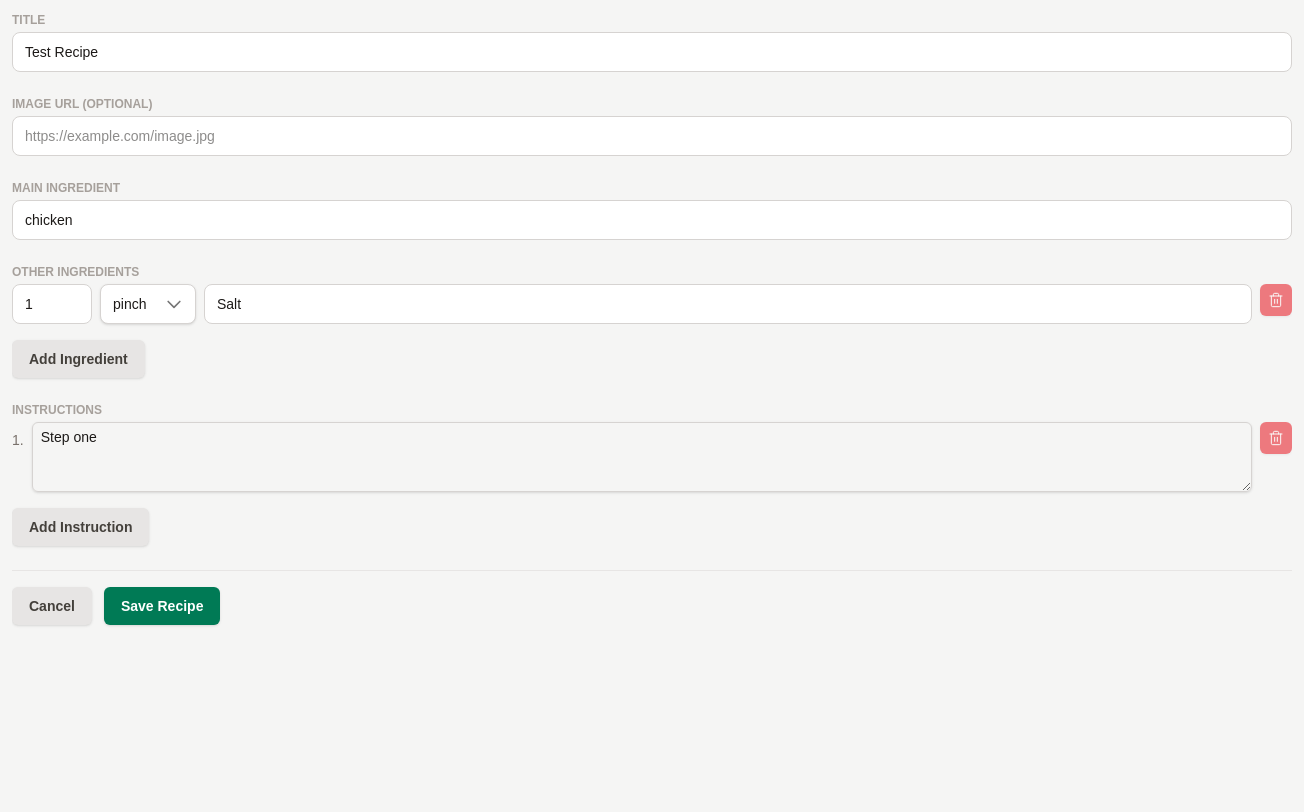
Scenario: RecipeForm › adds a new ingredient row when Add Ingredient is clicked
Click the button "Add Ingredient" at (78, 359), box x1=12 y1=340 x2=145 y2=378
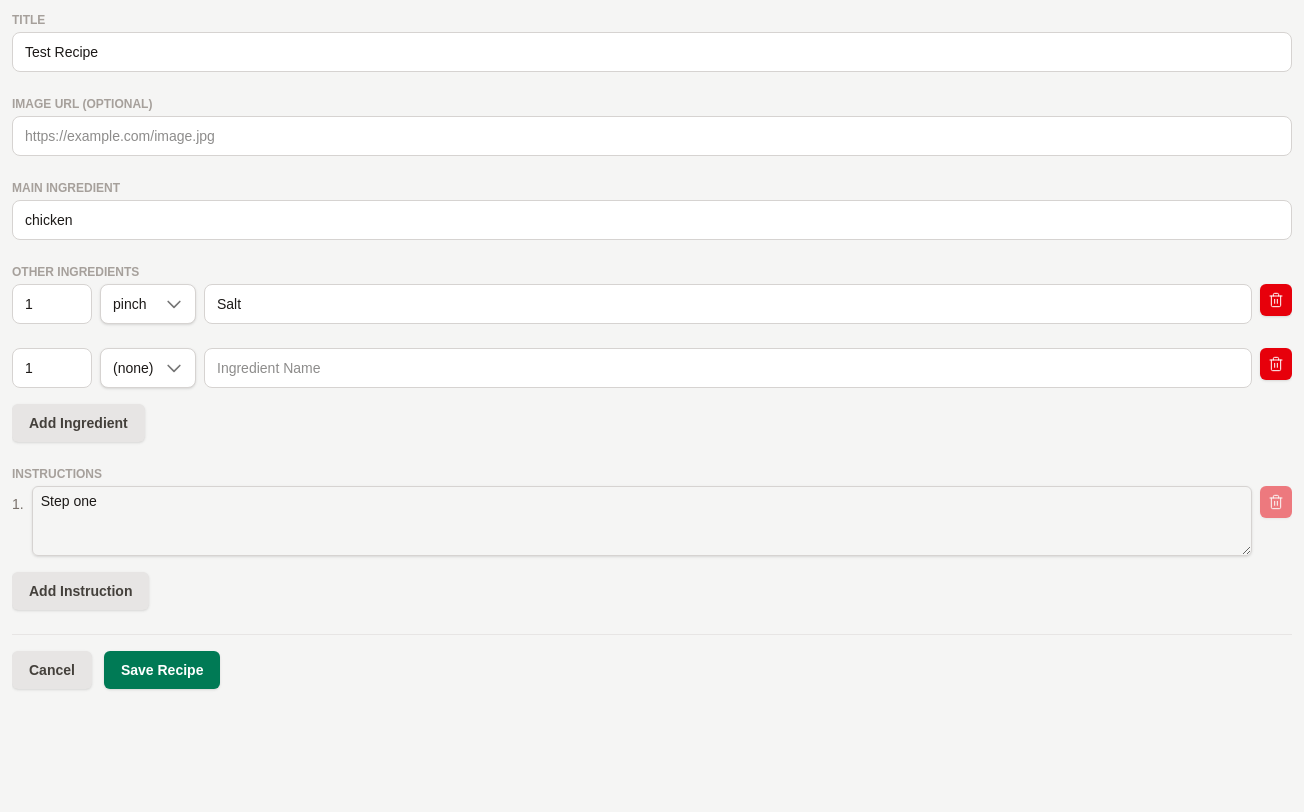
Now the number of fields with placeholder "Ingredient Name" is 2, box x1=204 y1=284 x2=1252 y2=324; x1=204 y1=348 x2=1252 y2=388
